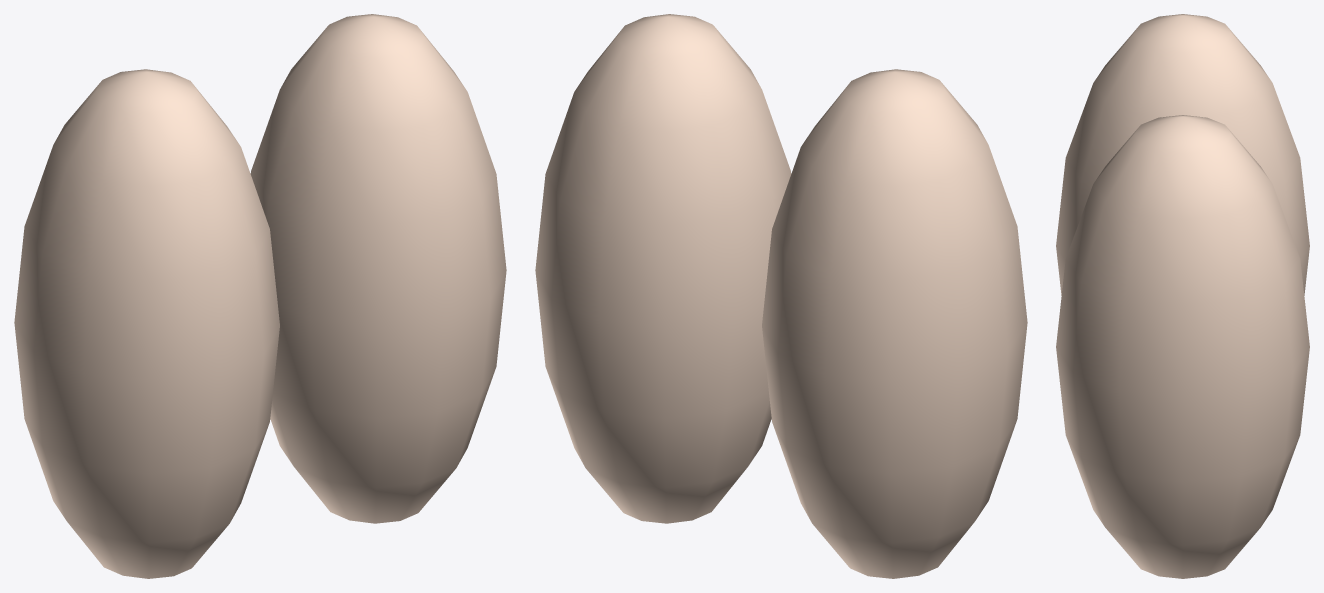
The model's file is legs-chibi-02.glb.
3 renders of one model, left to right at view 1: azimuth 30°, elevation 25°; view 2: azimuth 150°, elevation 25°; view 3: azimuth 270°, elevation 25°, orthographic. The views are drawn at different scales.
Parts seen in each view (by area): view 1: part_0, part_1; view 2: part_0, part_1; view 3: part_1, part_0.
Part boxes in pixels (x1,y1,x2,y2): part_0: (14, 69, 279, 578); part_1: (250, 14, 506, 523); part_0: (762, 69, 1027, 578); part_1: (535, 14, 791, 523); part_1: (1056, 115, 1309, 578); part_0: (1056, 14, 1309, 295).
Size of the model in its own units: 0.64 by 0.68 by 0.34.
